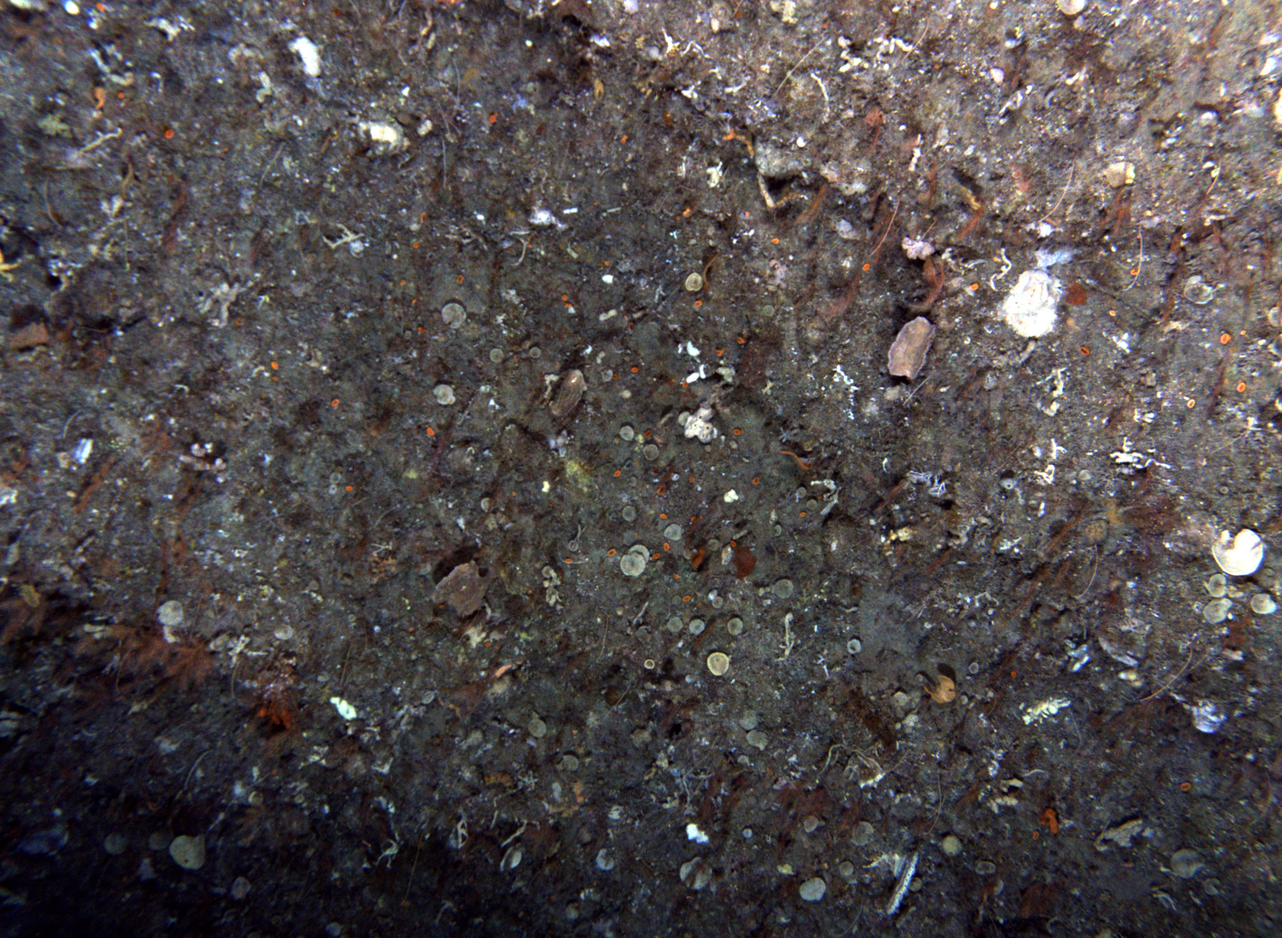Brachionichthyidae: (0, 317, 53, 357)
